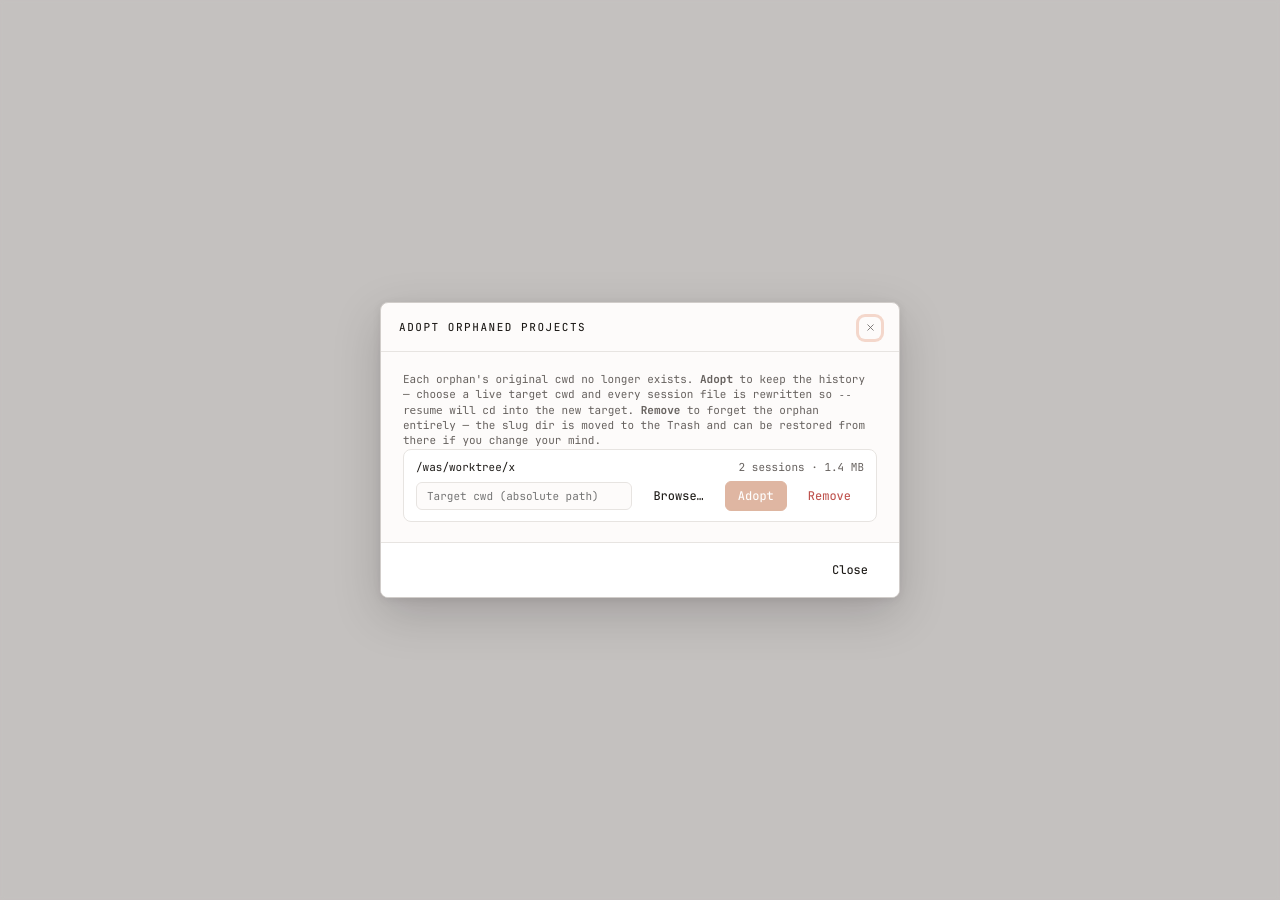
Test: AdoptOrphansModal › disables Adopt until the user enters a target
The width and height of the screenshot is (1280, 900).
Expected: the button "Adopt" is disabled, [725,481,787,511]
Type "/live/main" into the field with placeholder "Target cwd (absolute path)" at coordinates (524, 496), box [416,482,632,510]
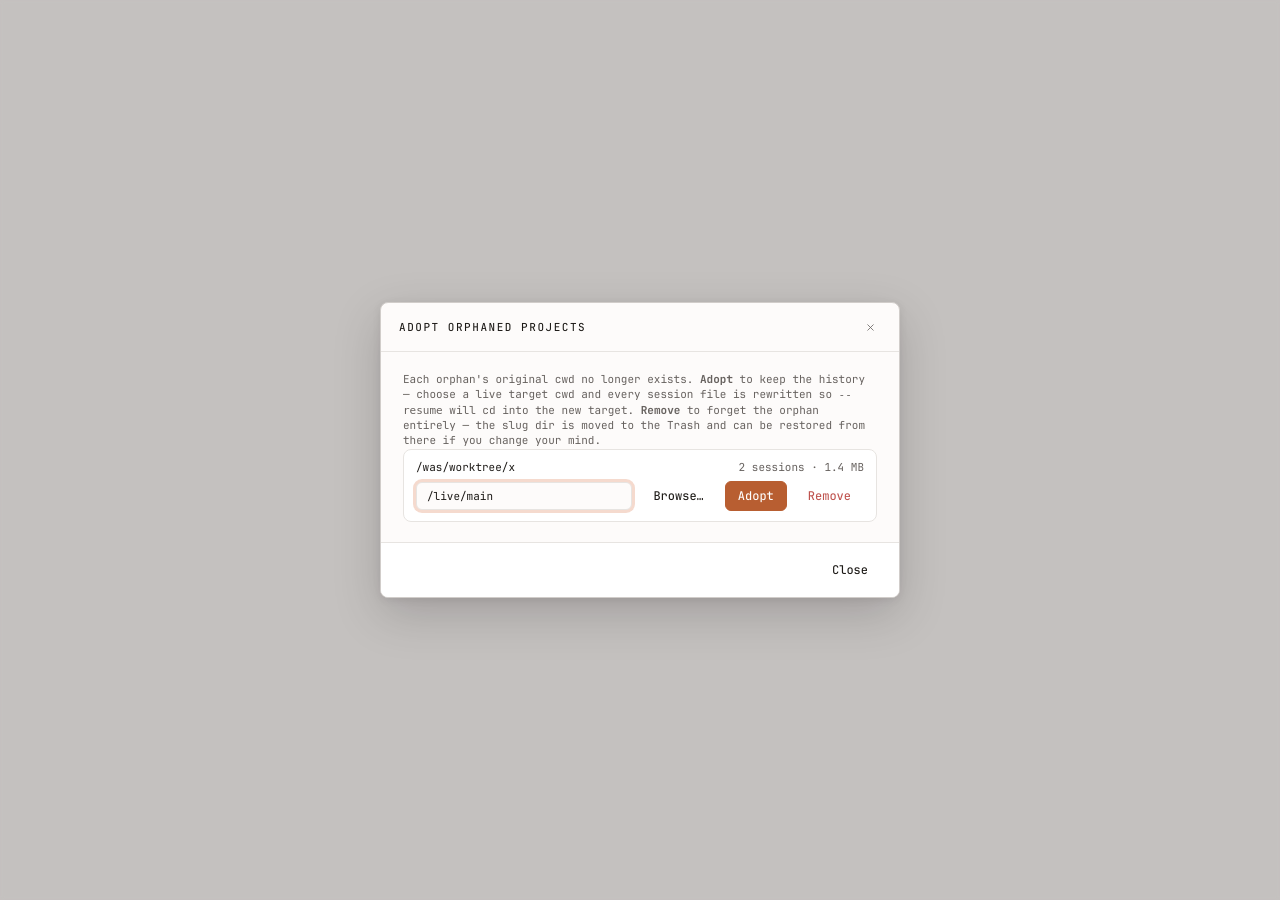
Now the button "Adopt" is enabled, box [725,481,787,511]
